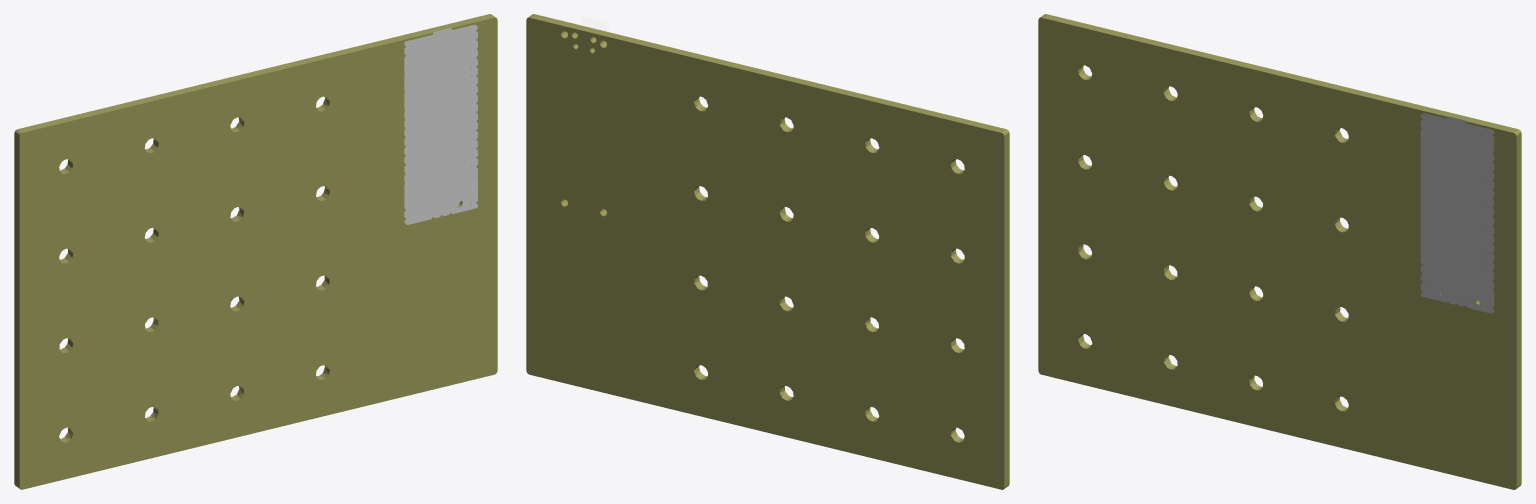
Rendered from OBJ_PCB_PicoKeys.obj.
The picture shows the model from 3 angles, left to right: view 1: azimuth 30°, elevation 25°; view 2: azimuth 150°, elevation 25°; view 3: azimuth 330°, elevation 25°; orthographic projection.
Size of the model in its own units: 550 by 396 by 25.33.
